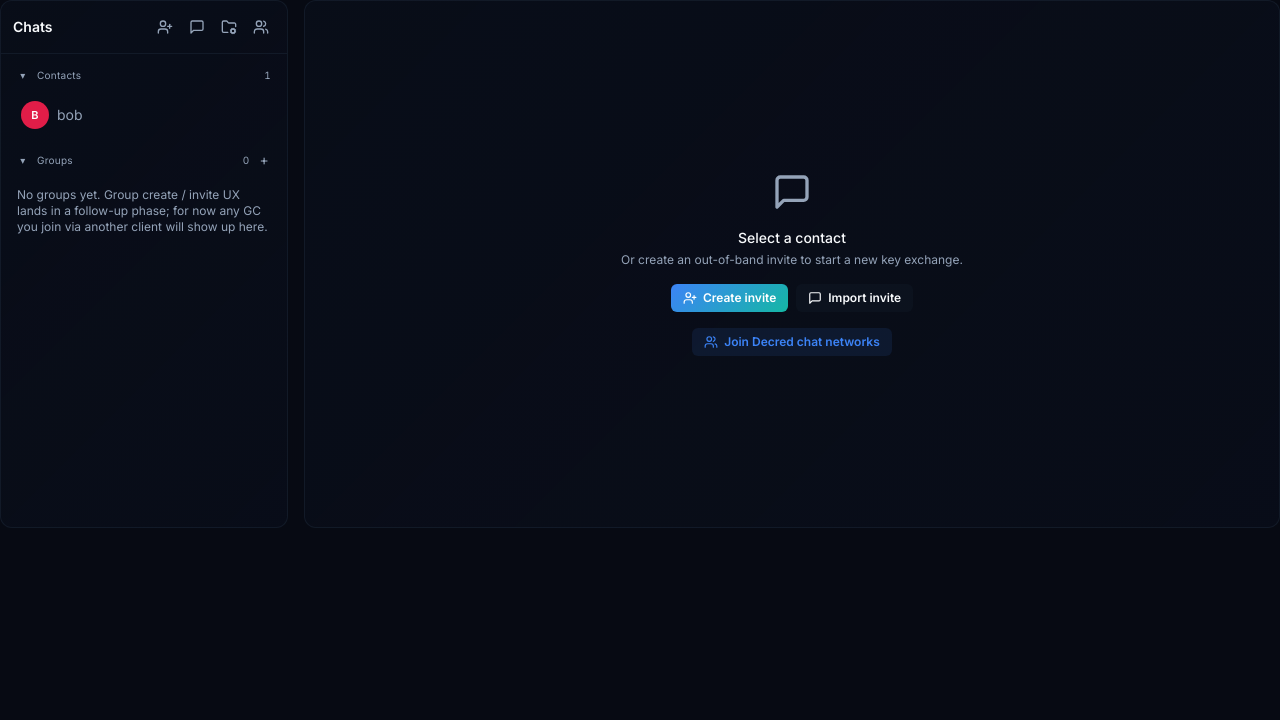
Test: badges the thread that was open once the chat tab is left
Click the text "bob". click: (70, 114)
box: 57,106 -> 82,123
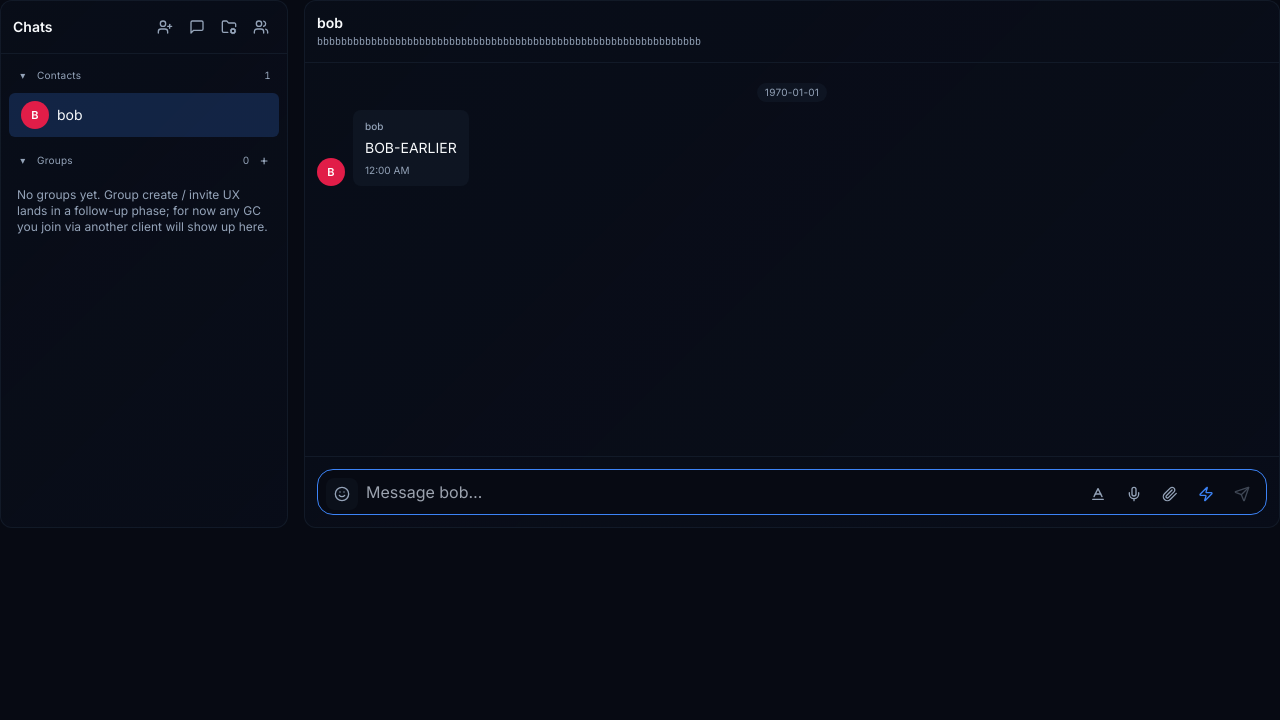
Expected: the text "BOB-EARLIER" is shown, 365,138 -> 457,158
